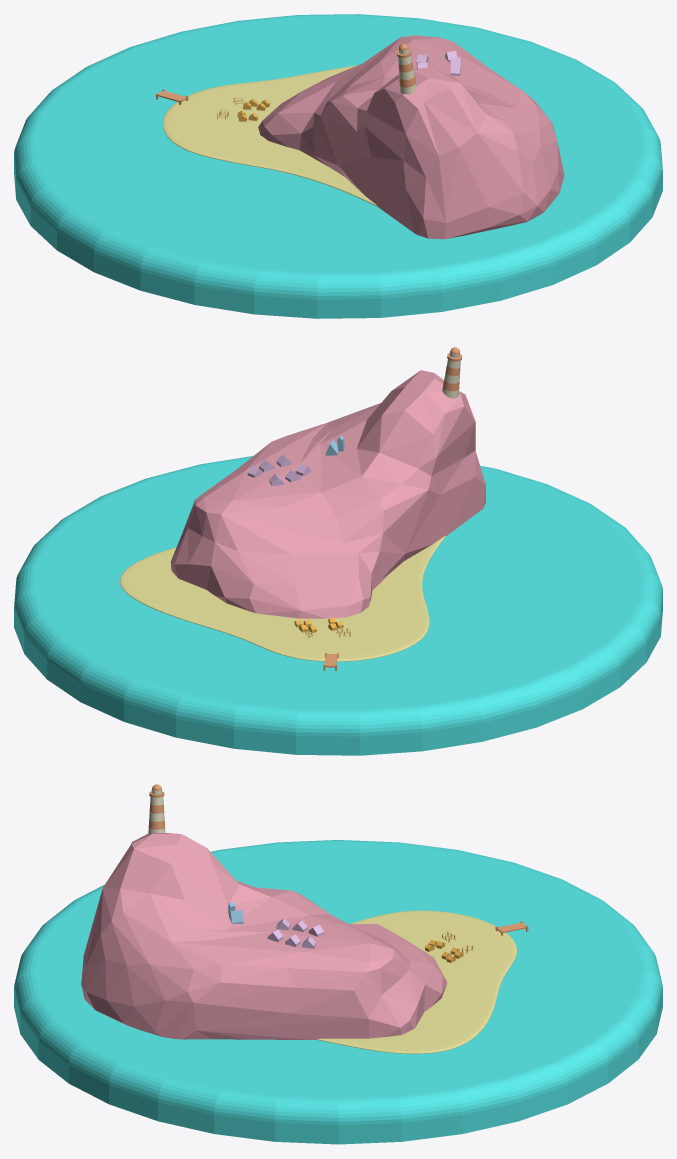
The model's file is island.glb.
3 renders of one model, top to bottom at view 1: azimuth 30°, elevation 25°; view 2: azimuth 150°, elevation 25°; view 3: azimuth 270°, elevation 25°, orthographic.
Parts seen in each view (by area): view 1: ocean, island, beach, lighthouse, fishermenVillage, houses; view 2: ocean, island, beach, houses, lighthouse; view 3: ocean, island, beach, houses, lighthouse.
Boxes of the visible parts, bbox=[...] form: ocean: bbox=[14, 14, 662, 318]; island: bbox=[258, 35, 564, 239]; beach: bbox=[162, 65, 377, 206]; lighthouse: bbox=[396, 43, 416, 94]; fishermenVillage: bbox=[217, 98, 269, 121]; houses: bbox=[416, 51, 460, 75]; ocean: bbox=[14, 456, 662, 755]; island: bbox=[170, 370, 485, 618]; beach: bbox=[120, 536, 445, 661]; houses: bbox=[247, 454, 310, 486]; lighthouse: bbox=[442, 347, 462, 398]; ocean: bbox=[14, 840, 662, 1144]; island: bbox=[81, 833, 447, 1039]; beach: bbox=[317, 910, 516, 1053]; houses: bbox=[267, 918, 324, 948]; lighthouse: bbox=[148, 784, 165, 834].
Size of the model in its own units: 25.02 by 8.94 by 25.02.
